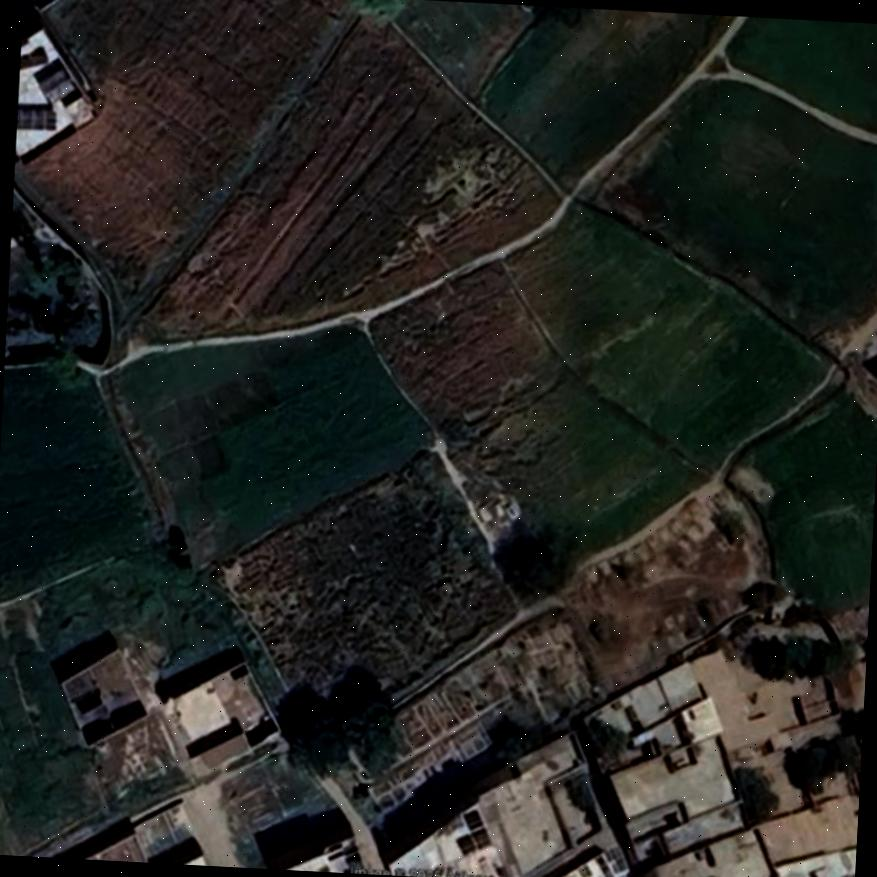Solarpanel: (18, 108, 55, 128)
